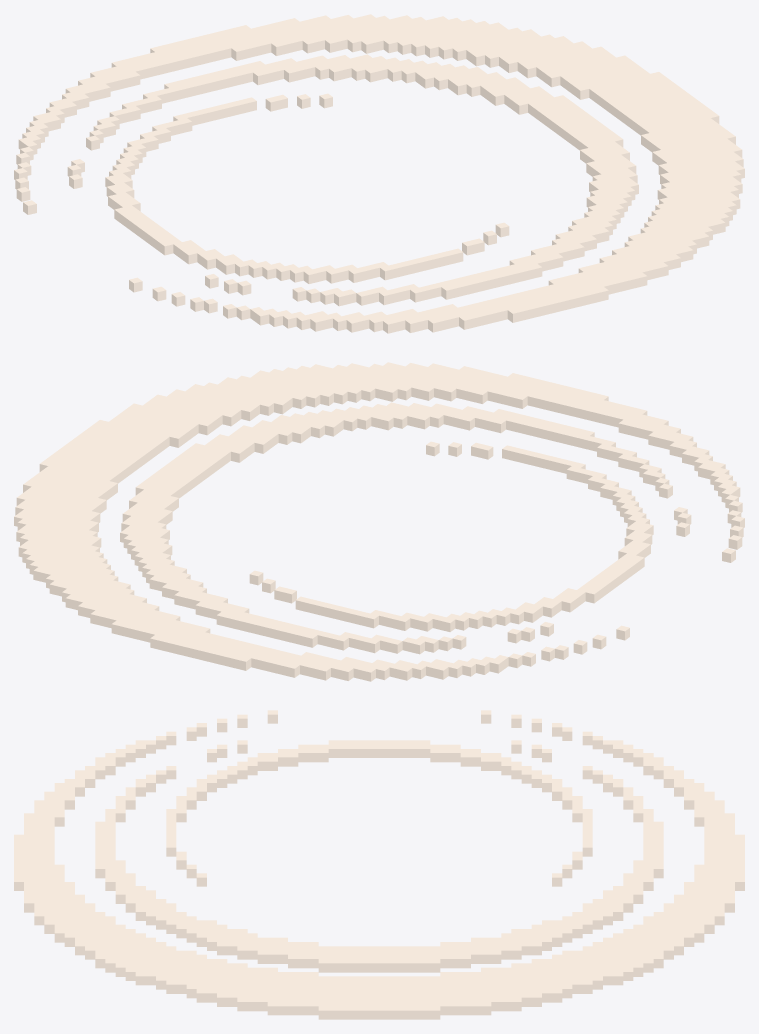
The model's file is 转圈攻击特效.gltf.
3 renders of one model, top to bottom at view 1: azimuth 30°, elevation 25°; view 2: azimuth 150°, elevation 25°; view 3: azimuth 270°, elevation 25°, orthographic.
Parts seen in each view (by area): view 1: Object; view 2: Object; view 3: Object.
Part boxes in pixels (x1,y1,x2,y2): Object: [14, 14, 744, 333]; Object: [14, 362, 744, 681]; Object: [14, 710, 744, 1019].
Size of the model in its own units: 70 by 1 by 72.
1 material, 1 textured.
